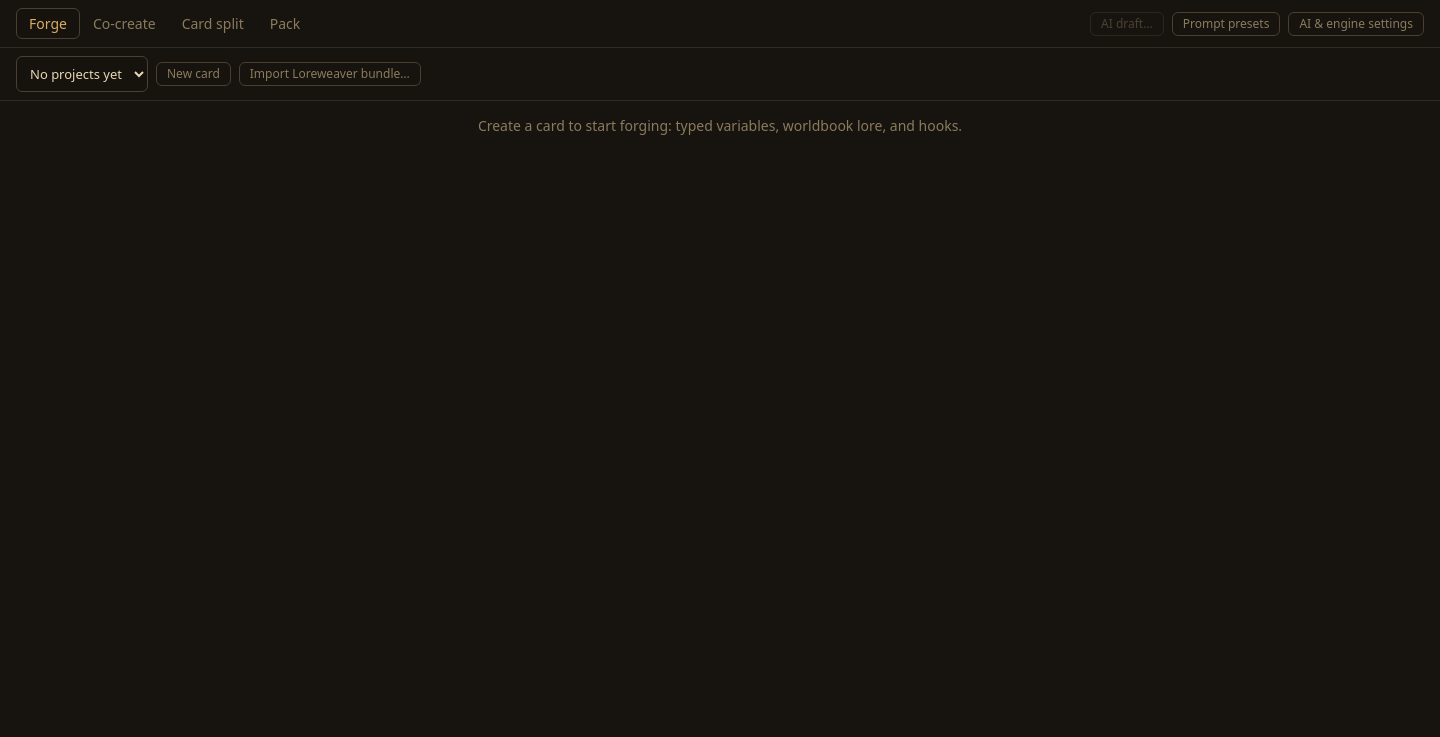
Test: StudioView › starts empty and creates a project
Check: the text "start forging" is shown, box [478,116,962,135]
Click the button "New card": (193, 74) [156,62,231,86]
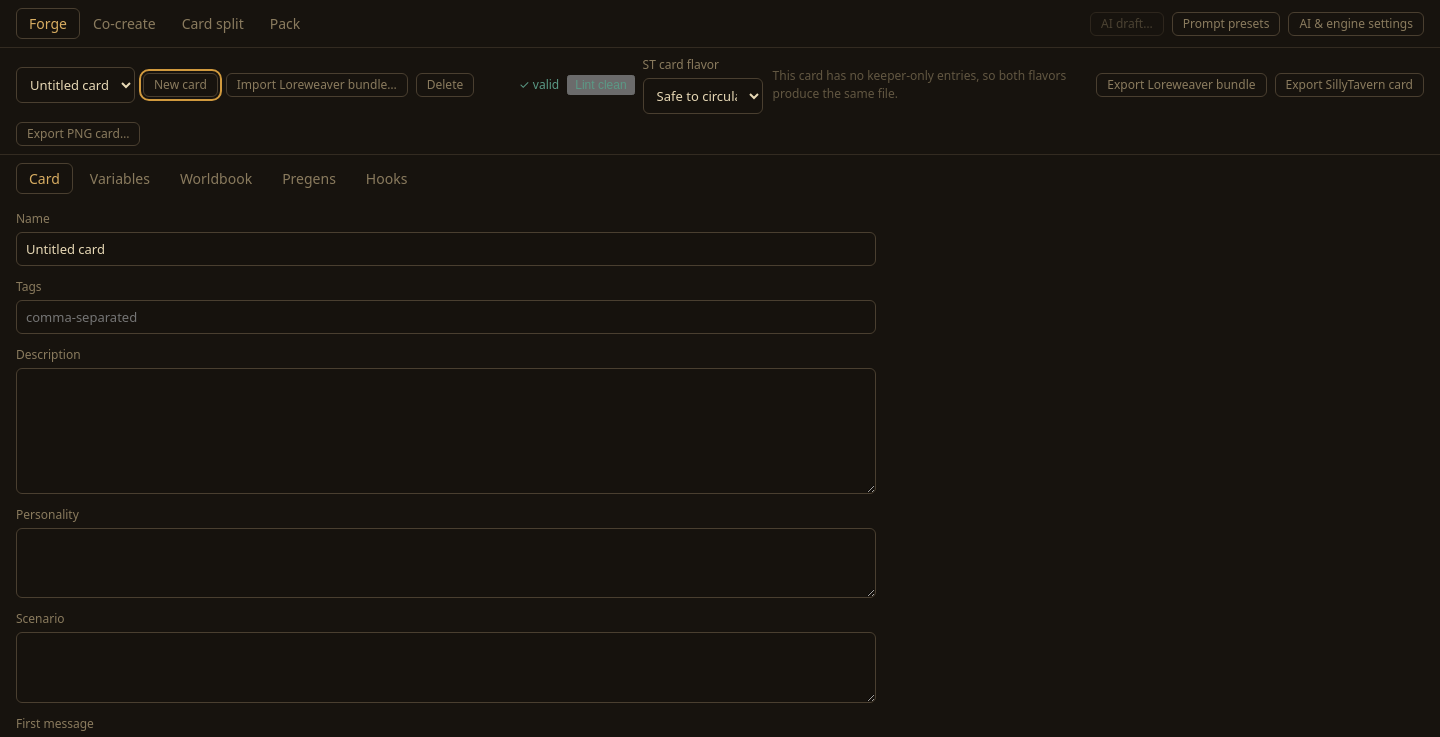
Check: the field labelled "Name" is shown, box [16,232,876,266]
